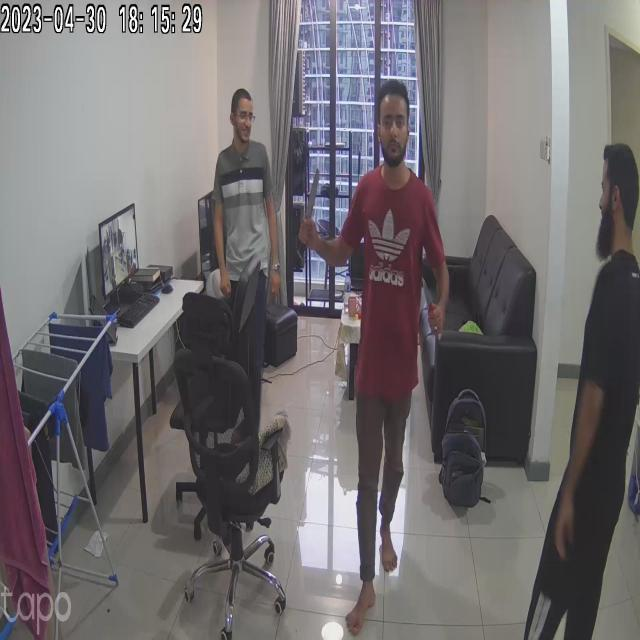Knife: (302, 158, 331, 235)
